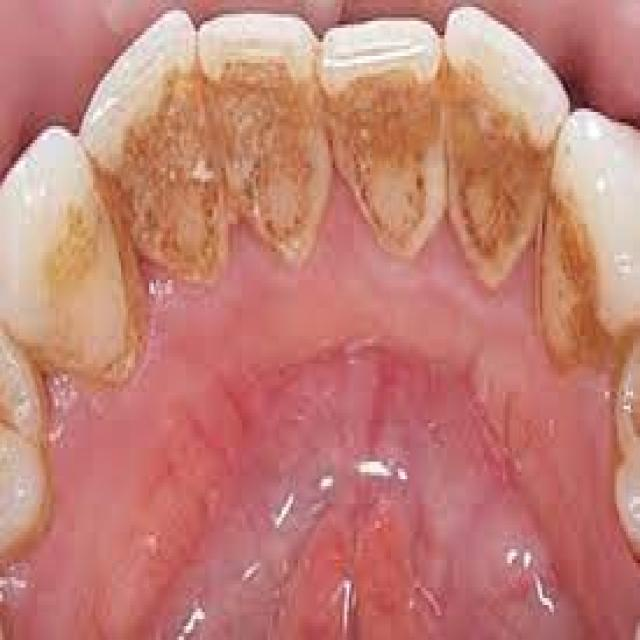Tooth Discoloration: (115, 44, 634, 390), (42, 194, 102, 310)
